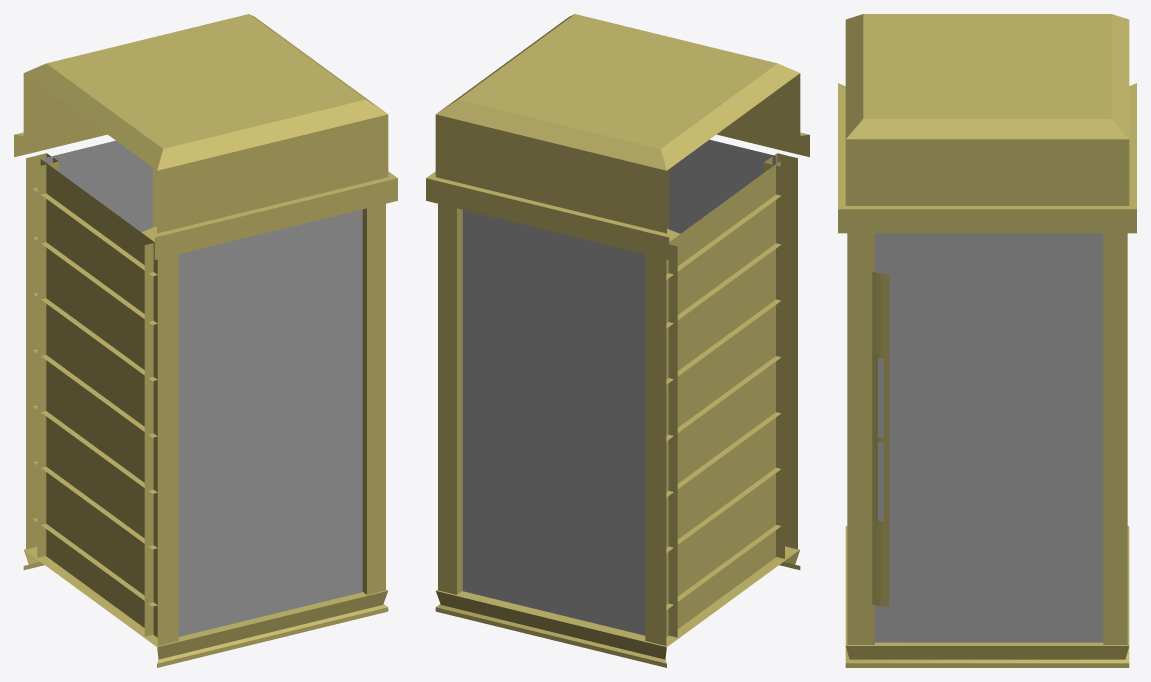
Rendered from Pizza_glass.fbx.
3 views of the same model, side by side, from view 1: azimuth 30°, elevation 25°; view 2: azimuth 150°, elevation 25°; view 3: azimuth 270°, elevation 25° (orthographic). The views are drawn at different scales.
Parts seen in each view (by area): view 1: Pizza; view 2: Pizza; view 3: Pizza.
Part boxes in pixels (box(x1,y1,x2,y2)): Pizza: box(14, 14, 397, 667); Pizza: box(426, 14, 809, 667); Pizza: box(838, 14, 1136, 667).
Bounding box in the file's own units: 100 × 200 × 100.
